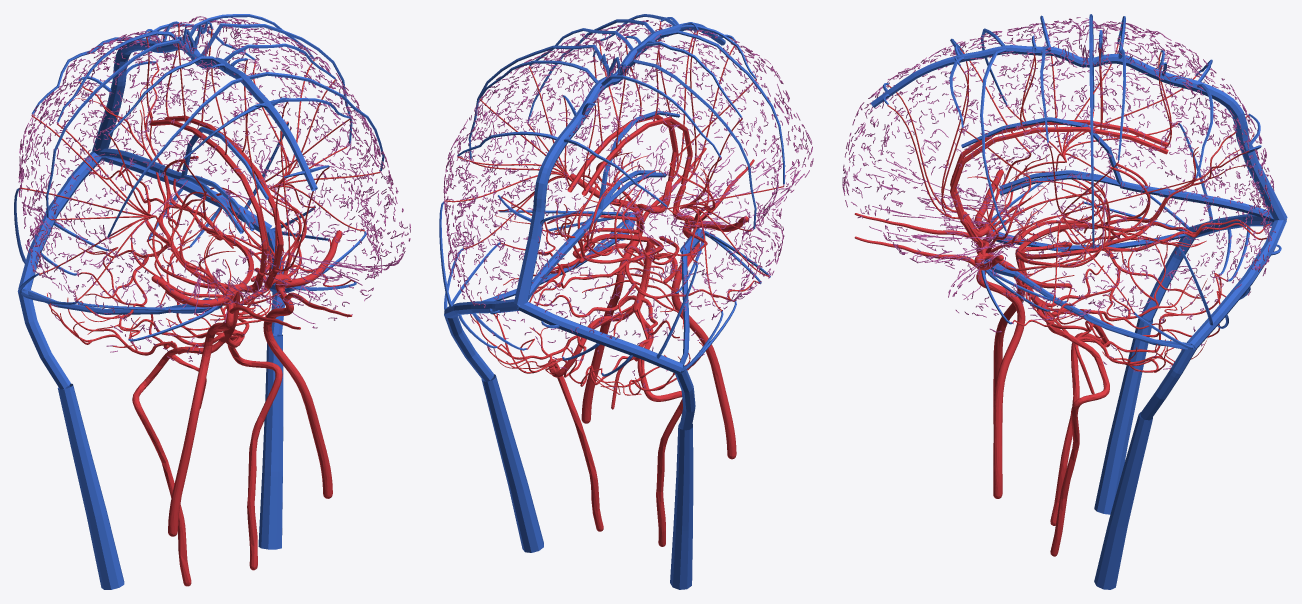
Rendered from brain-vessels.glb.
3 renders of one model, left to right at view 1: azimuth 30°, elevation 25°; view 2: azimuth 150°, elevation 25°; view 3: azimuth 270°, elevation 25°, orthographic. The views are drawn at different scales.
Visible parts, largest first — view 1: caps, cortveins, ijv, br_mca, sss, ts, ica_R, br_aca, ica_L, va_L, va_R, sig (+16 smaller); view 2: caps, cortveins, ijv, sss, br_mca, ts, br_aca, ica_R, va_L, sig, va_R, pca_R (+16 smaller); view 3: caps, cortveins, ijv, sss, br_mca, ts, ica_L, sig, br_aca, va_L, pca_L, pet (+15 smaller).
Part boxes in pixels (x1,y1,x2,y2): caps: (18, 16, 410, 361); cortveins: (14, 14, 384, 341); ijv: (57, 334, 283, 589); br_mca: (19, 60, 380, 308); sss: (92, 38, 317, 191); ts: (18, 151, 271, 289); ica_R: (168, 296, 233, 536); br_aca: (146, 24, 329, 330); ica_L: (263, 281, 332, 498); va_L: (226, 335, 282, 570); va_R: (132, 340, 223, 586); sig: (18, 229, 284, 389); caps: (443, 20, 813, 389); cortveins: (439, 14, 785, 376); ijv: (481, 374, 693, 589); sss: (514, 22, 725, 305); br_mca: (445, 41, 783, 311); ts: (444, 299, 682, 373); br_aca: (563, 21, 736, 267); ica_R: (671, 222, 736, 459); va_L: (548, 304, 633, 531); sig: (444, 314, 695, 430); va_R: (636, 310, 683, 546); pca_R: (540, 186, 752, 336); caps: (842, 17, 1275, 371); cortveins: (883, 14, 1281, 349); ijv: (1094, 316, 1152, 589); sss: (871, 45, 1287, 220); br_mca: (963, 44, 1196, 312); ts: (1187, 214, 1286, 349); ica_L: (976, 253, 1025, 498); sig: (1140, 231, 1196, 420); br_aca: (887, 38, 1171, 295); va_L: (1042, 311, 1109, 556); pca_L: (1014, 151, 1266, 326); pet: (1014, 233, 1191, 346).
Bounding box in the file's own units: 0.1405 × 0.2387 × 0.1863.
